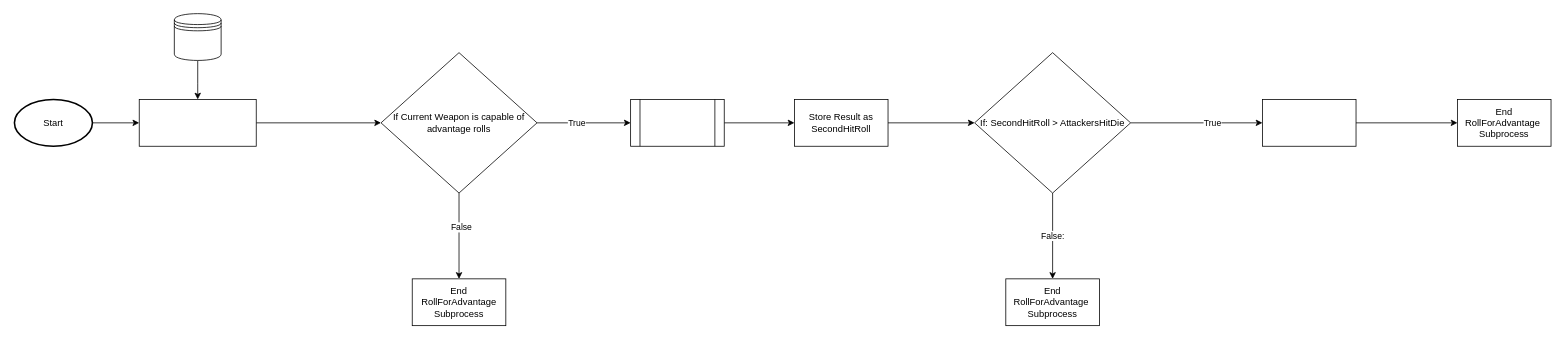
This 1565x339 diagram has some shape labels left out. The centre of each missing label's shape, as x and y in pixels:
"AttackersHitDie = SecondHitRoll" goes at point 1309,122.
"Check if current weapon, is capable of advantage rolls" goes at point 197,122.
"Run 5E ToHit subprocess again" goes at point 677,122.
